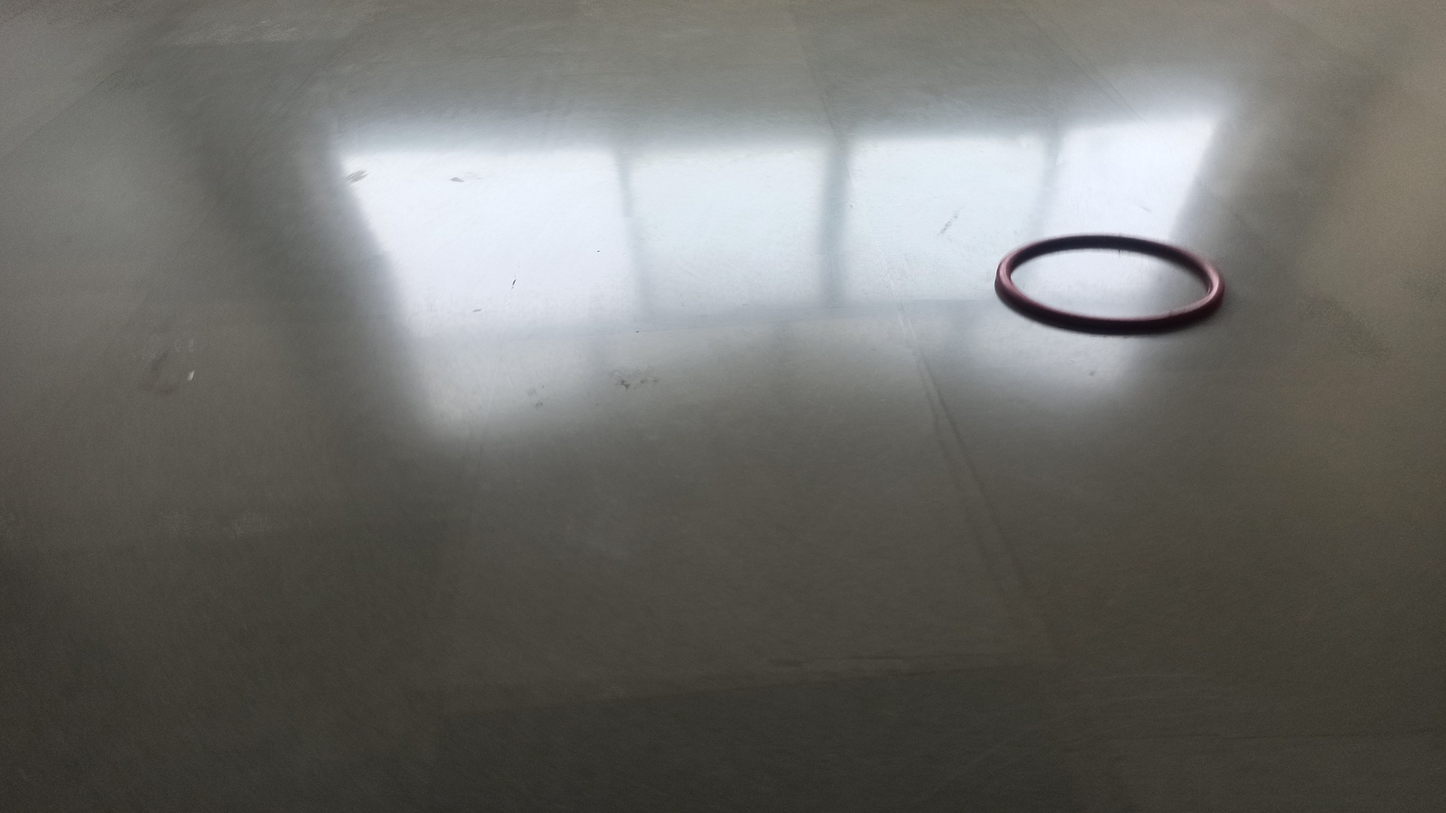Red ring: (991, 232, 1229, 333)
